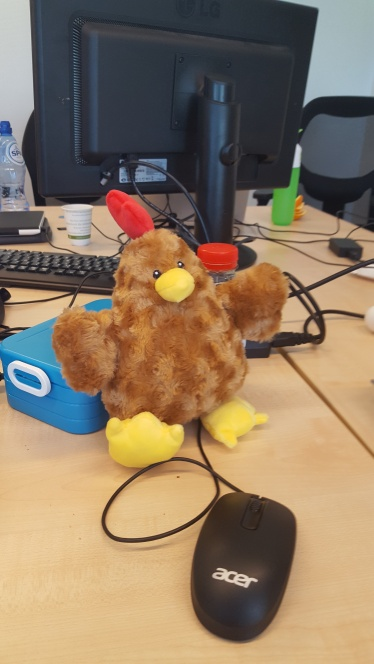chicken_front: (53, 190, 289, 468)
